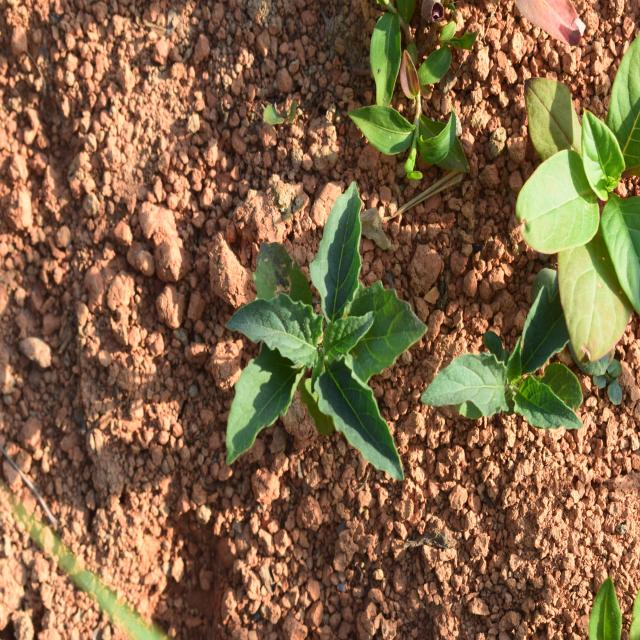Black_nightshade: (228, 214, 412, 473), (440, 273, 573, 441)
